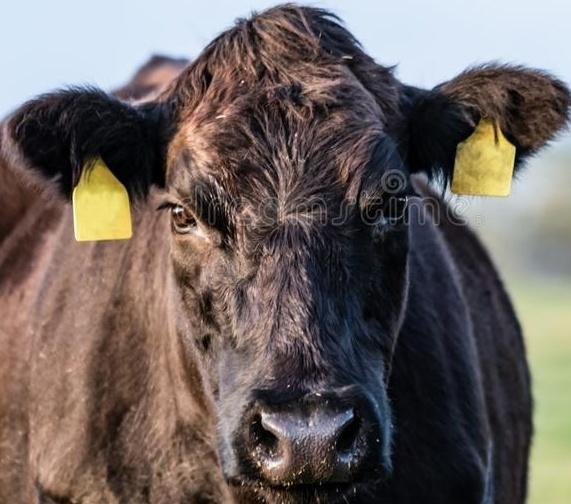muzzles: (222, 392, 393, 504)
